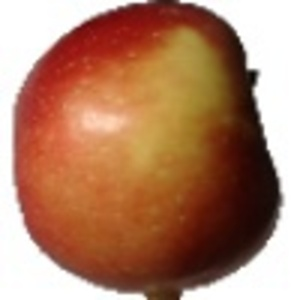maçã braeburn: (11, 2, 290, 293)
